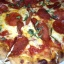pepperoni: (7, 36, 30, 59), (5, 10, 23, 28), (50, 15, 62, 33)
pizza: (1, 1, 64, 63)
